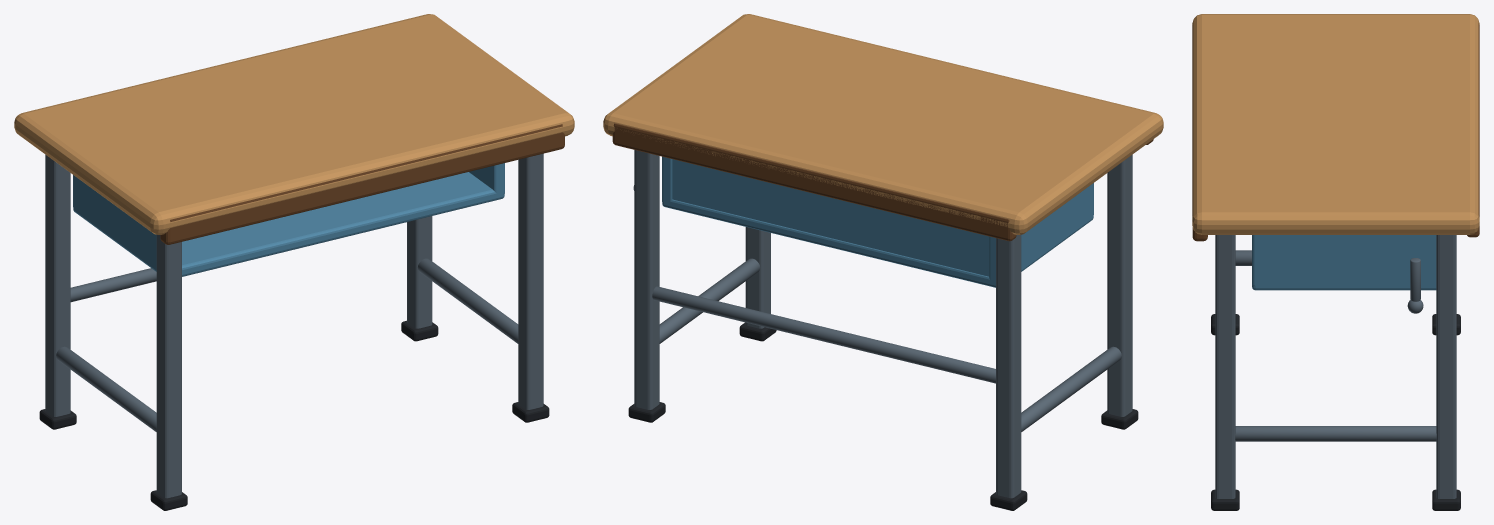
Rendered from school_desk.glb.
The picture shows the model from 3 angles, left to right: view 1: azimuth 30°, elevation 25°; view 2: azimuth 150°, elevation 25°; view 3: azimuth 270°, elevation 25°; orthographic projection.
Visible parts, largest first — view 1: Desktop_Oak, BookShelf_Base, Desktop_FrontEdge, SteelLeg_1, SteelLeg_2, SteelLeg_3, BookShelf_LeftWall, SteelLeg_4, LowerBrace_Right, LowerBrace_Left, RearCrossBrace, BookShelf_RightWall; view 2: Desktop_Oak, BookShelf_Back, Desktop_BackEdge, SteelLeg_3, SteelLeg_4, SteelLeg_1, RearCrossBrace, BookShelf_Base, BookShelf_LeftWall, LowerBrace_Left, SteelLeg_2, LowerBrace_Right; view 3: Desktop_Oak, BookShelf_RightWall, SteelLeg_2, SteelLeg_4, LowerBrace_Right, BookShelf_Base, BagHook, Desktop_BackEdge, RubberFoot_2, RubberFoot_4.
Boxes of the visible parts, x1,y1,x2,y2 form: Desktop_Oak: (14, 14, 574, 234); BookShelf_Base: (73, 172, 504, 276); Desktop_FrontEdge: (160, 124, 564, 244); SteelLeg_1: (156, 235, 181, 498); SteelLeg_2: (518, 153, 543, 409); SteelLeg_3: (45, 154, 70, 416); BookShelf_LeftWall: (73, 175, 156, 267); SteelLeg_4: (407, 216, 432, 328); LowerBrace_Right: (418, 258, 518, 343); LowerBrace_Left: (56, 346, 156, 431); RearCrossBrace: (70, 268, 156, 302); BookShelf_RightWall: (469, 163, 504, 195); Desktop_Oak: (603, 14, 1163, 234); BookShelf_Back: (672, 159, 988, 276); Desktop_BackEdge: (612, 123, 1016, 241); SteelLeg_3: (996, 235, 1021, 498); SteelLeg_4: (634, 150, 659, 409); SteelLeg_1: (1107, 154, 1132, 416); RearCrossBrace: (652, 286, 995, 383); BookShelf_Base: (662, 199, 1093, 287); BookShelf_LeftWall: (989, 183, 1093, 282); LowerBrace_Left: (1021, 346, 1121, 431); SteelLeg_2: (745, 227, 770, 328); LowerBrace_Right: (659, 258, 759, 343); Desktop_Oak: (1192, 14, 1479, 234); BookShelf_RightWall: (1252, 235, 1436, 286); SteelLeg_2: (1215, 235, 1235, 498); SteelLeg_4: (1436, 235, 1456, 498); LowerBrace_Right: (1235, 426, 1436, 441); BookShelf_Base: (1252, 283, 1436, 290); BagHook: (1410, 258, 1420, 301); Desktop_BackEdge: (1467, 23, 1479, 237); RubberFoot_2: (1211, 489, 1239, 510); RubberFoot_4: (1432, 489, 1460, 510).
Size of the model in its own units: 1.1 by 0.76 by 0.65.
